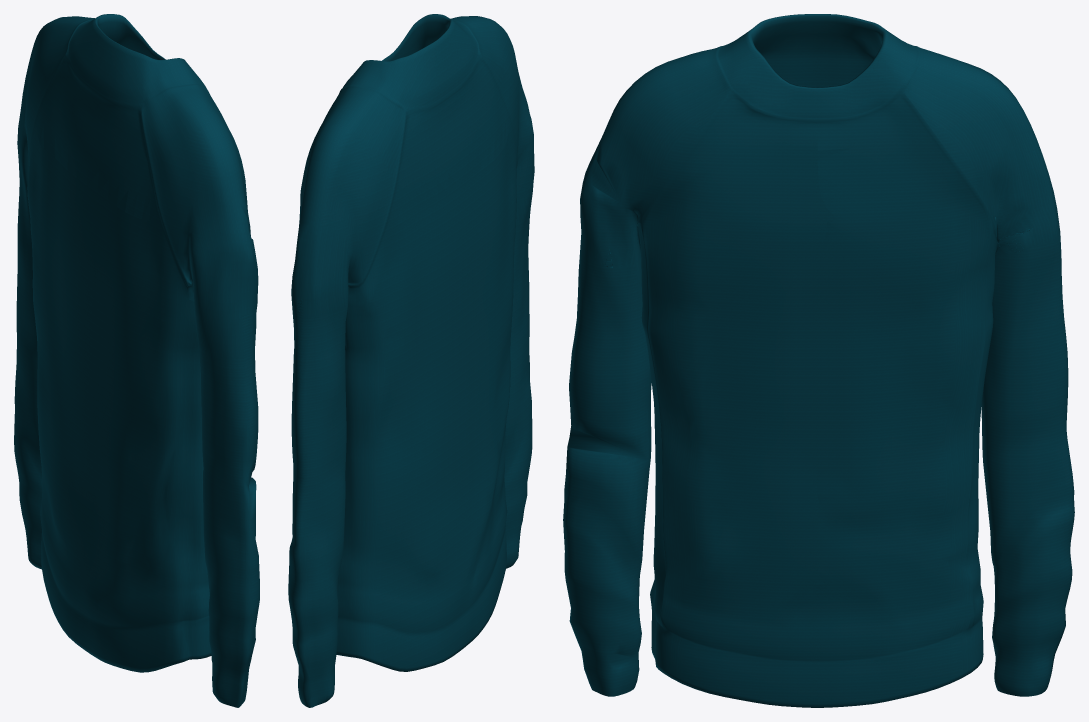
The picture shows the model from 3 angles, left to right: view 1: azimuth 30°, elevation 25°; view 2: azimuth 150°, elevation 25°; view 3: azimuth 270°, elevation 25°; orthographic projection. The views are drawn at different scales.
Visible parts, largest first — view 1: Plane143; view 2: Plane143; view 3: Plane143.
Part boxes in pixels (x1,y1,x2,y2): Plane143: [14, 14, 259, 707]; Plane143: [288, 14, 534, 707]; Plane143: [563, 14, 1074, 707].
Size of the model in its own units: 4.58 by 24.14 by 16.73.
